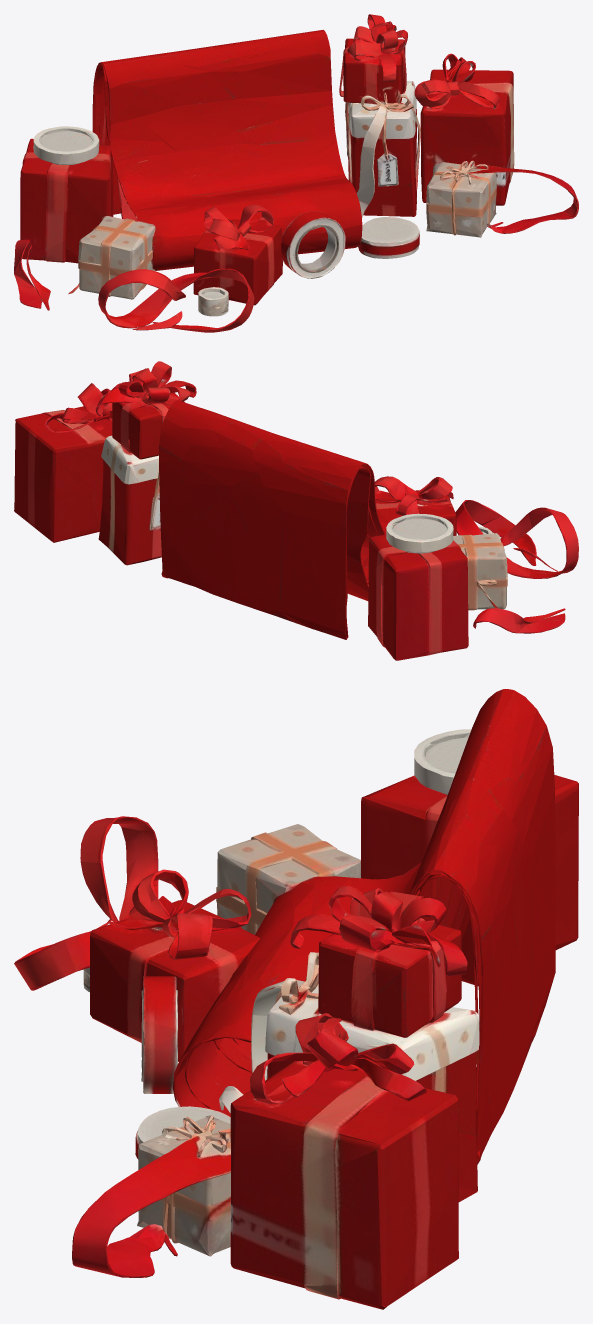
File: xmas_ws_wrap.glb
The picture shows the model from 3 angles, top to bottom: view 1: azimuth 30°, elevation 25°; view 2: azimuth 150°, elevation 25°; view 3: azimuth 270°, elevation 25°; orthographic projection. The views are drawn at different scales.
Bounding box in the file's own units: 1.9 × 0.6367 × 1.02.
1 material, 1 textured.
